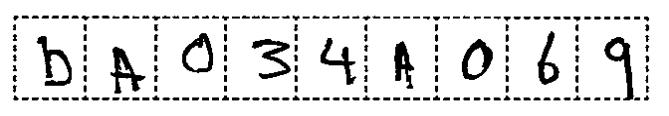0: (458, 35, 498, 86), (177, 30, 218, 77)
3: (249, 34, 292, 86)
4: (313, 34, 360, 92)
6: (530, 28, 564, 86)
9: (599, 31, 640, 96)
A: (106, 43, 148, 95), (384, 38, 419, 94)
D: (29, 32, 80, 91)
